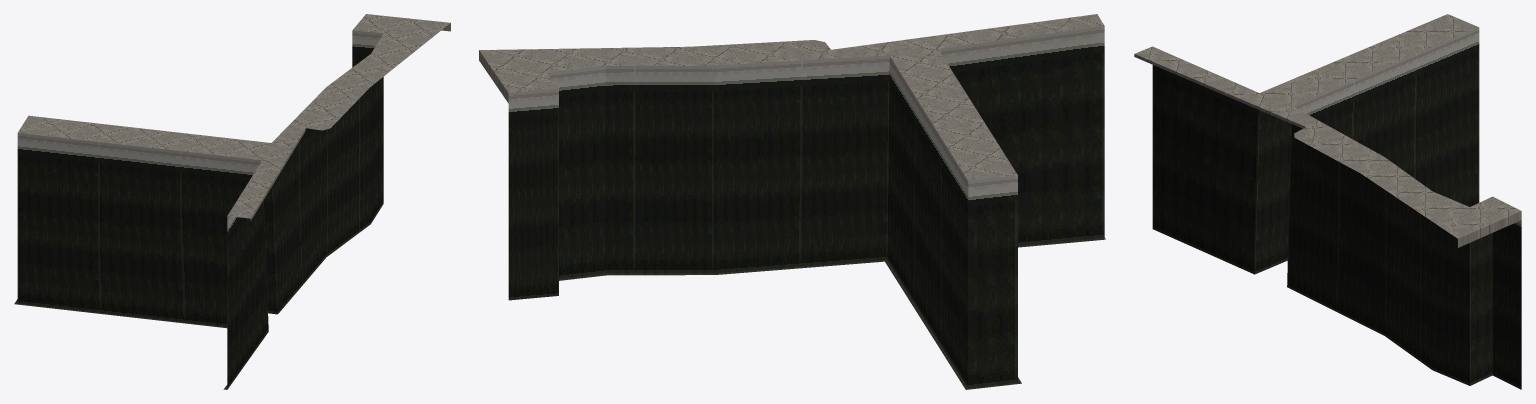
The model's file is lod_coast03_sfn.obj.
3 views of the same model, side by side, from view 1: azimuth 30°, elevation 25°; view 2: azimuth 150°, elevation 25°; view 3: azimuth 270°, elevation 25° (orthographic). The views are drawn at different scales.
Parts seen in each view (by area): view 1: LOD_coast03_sfn; view 2: LOD_coast03_sfn; view 3: LOD_coast03_sfn.
Boxes of the visible parts, x1,y1,x2,y2 form: LOD_coast03_sfn: (14,14,450,389); LOD_coast03_sfn: (479,14,1105,389); LOD_coast03_sfn: (1134,14,1521,389).
Bounding box in the file's own units: 129 × 48.67 × 93.42.
Materials: 2 (2 with a texture image).
